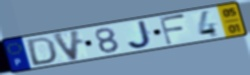4: (195, 10, 222, 39)
8: (94, 26, 121, 54)
D: (26, 36, 58, 67)
F: (157, 13, 188, 47)
J: (126, 19, 155, 50)
V: (50, 28, 83, 63)
